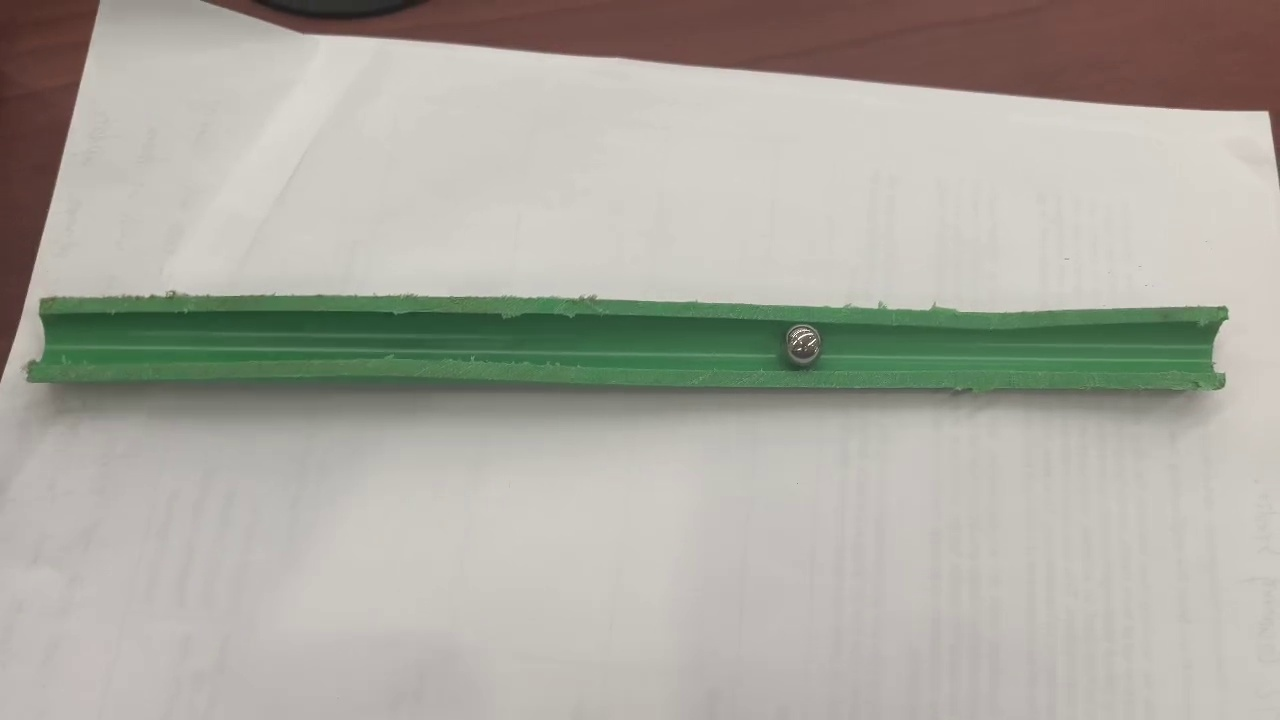ball: (787, 325, 820, 365)
